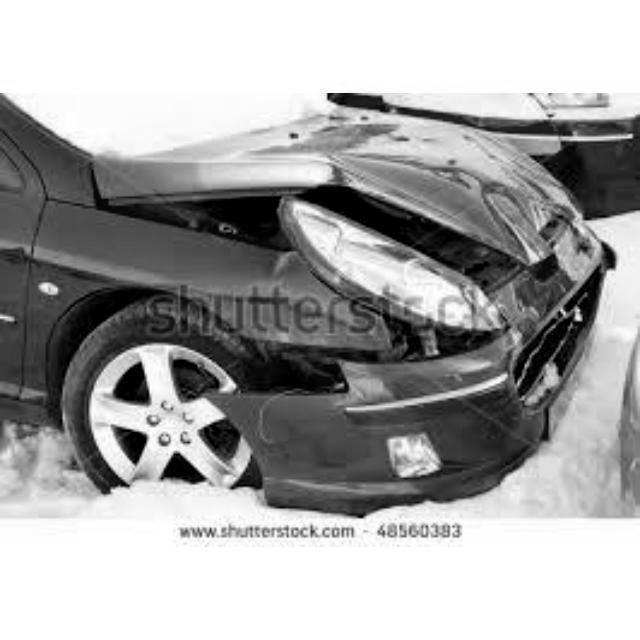bonnet-dent: (126, 118, 568, 259)
fender-dent: (79, 235, 358, 367)
front-bumper-dent: (272, 347, 555, 476)
